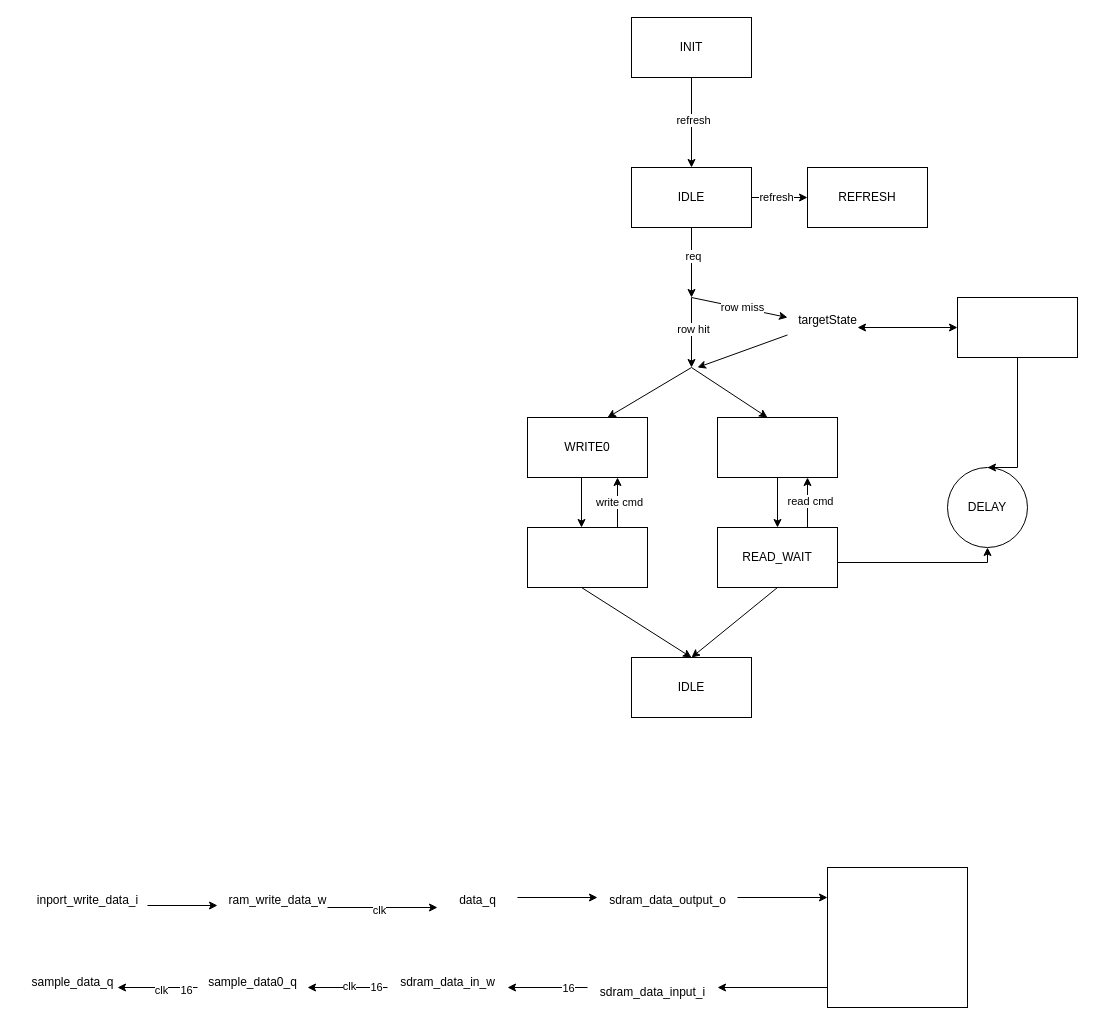
Some shapes in this 1095 by 1025 pixel diagram are drawn without their labels. Here are the shapes that lost their labels. From the top down, the box of each, then its label:
(956, 296, 1078, 358): ACTIVE
(716, 416, 838, 478): READ
(526, 526, 648, 588): WRITE1
(826, 866, 968, 1008): chip
